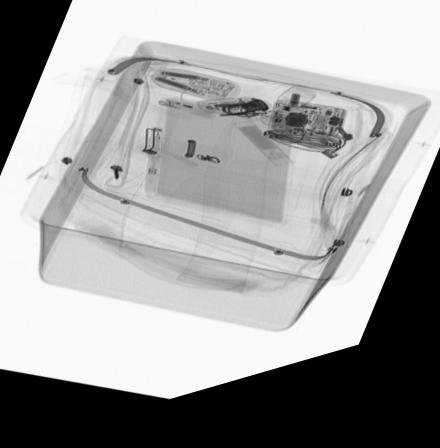Lighter: (156, 108, 219, 132)
